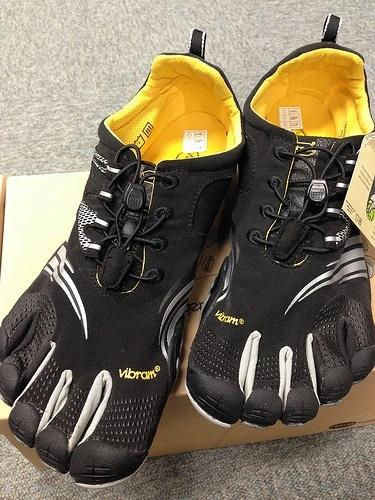shoe: (0, 30, 243, 485), (186, 16, 374, 427)
texto: (107, 354, 164, 390), (210, 301, 249, 334)
